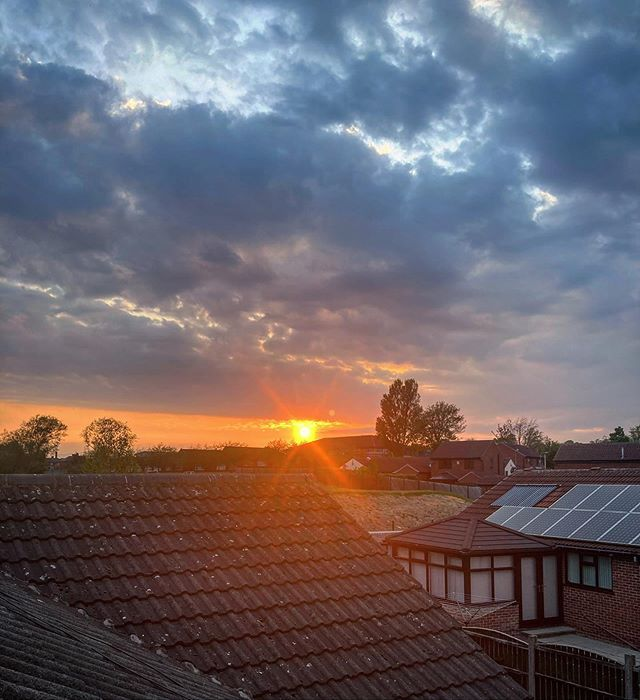building: (1, 472, 403, 700), (416, 465, 640, 700), (433, 444, 546, 485)
sky: (1, 1, 640, 407)
sun: (291, 413, 320, 449)
tree: (71, 413, 143, 480), (1, 412, 72, 479), (370, 372, 423, 457), (417, 396, 464, 446)
